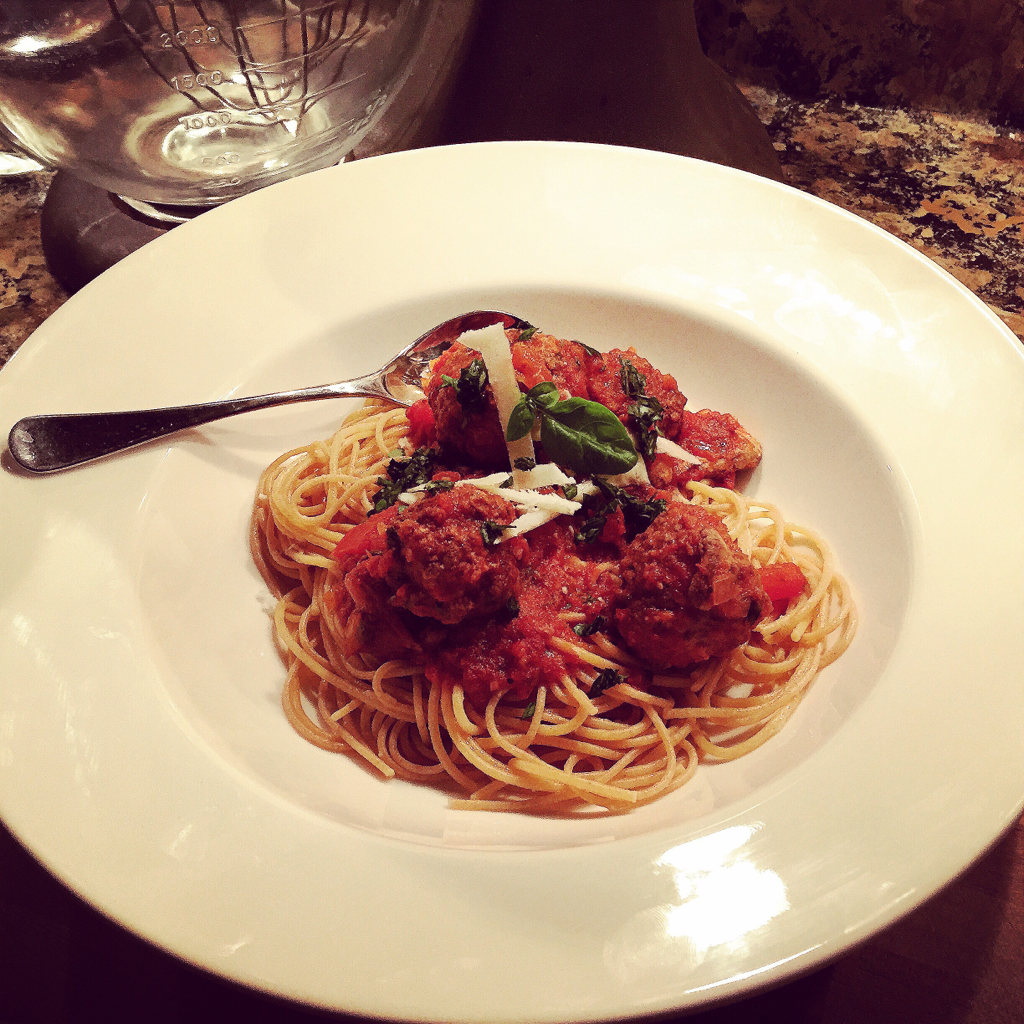meatballs: (598, 513, 749, 672), (411, 488, 522, 622)
plain spaghetti: (295, 637, 822, 808), (265, 414, 397, 763)
